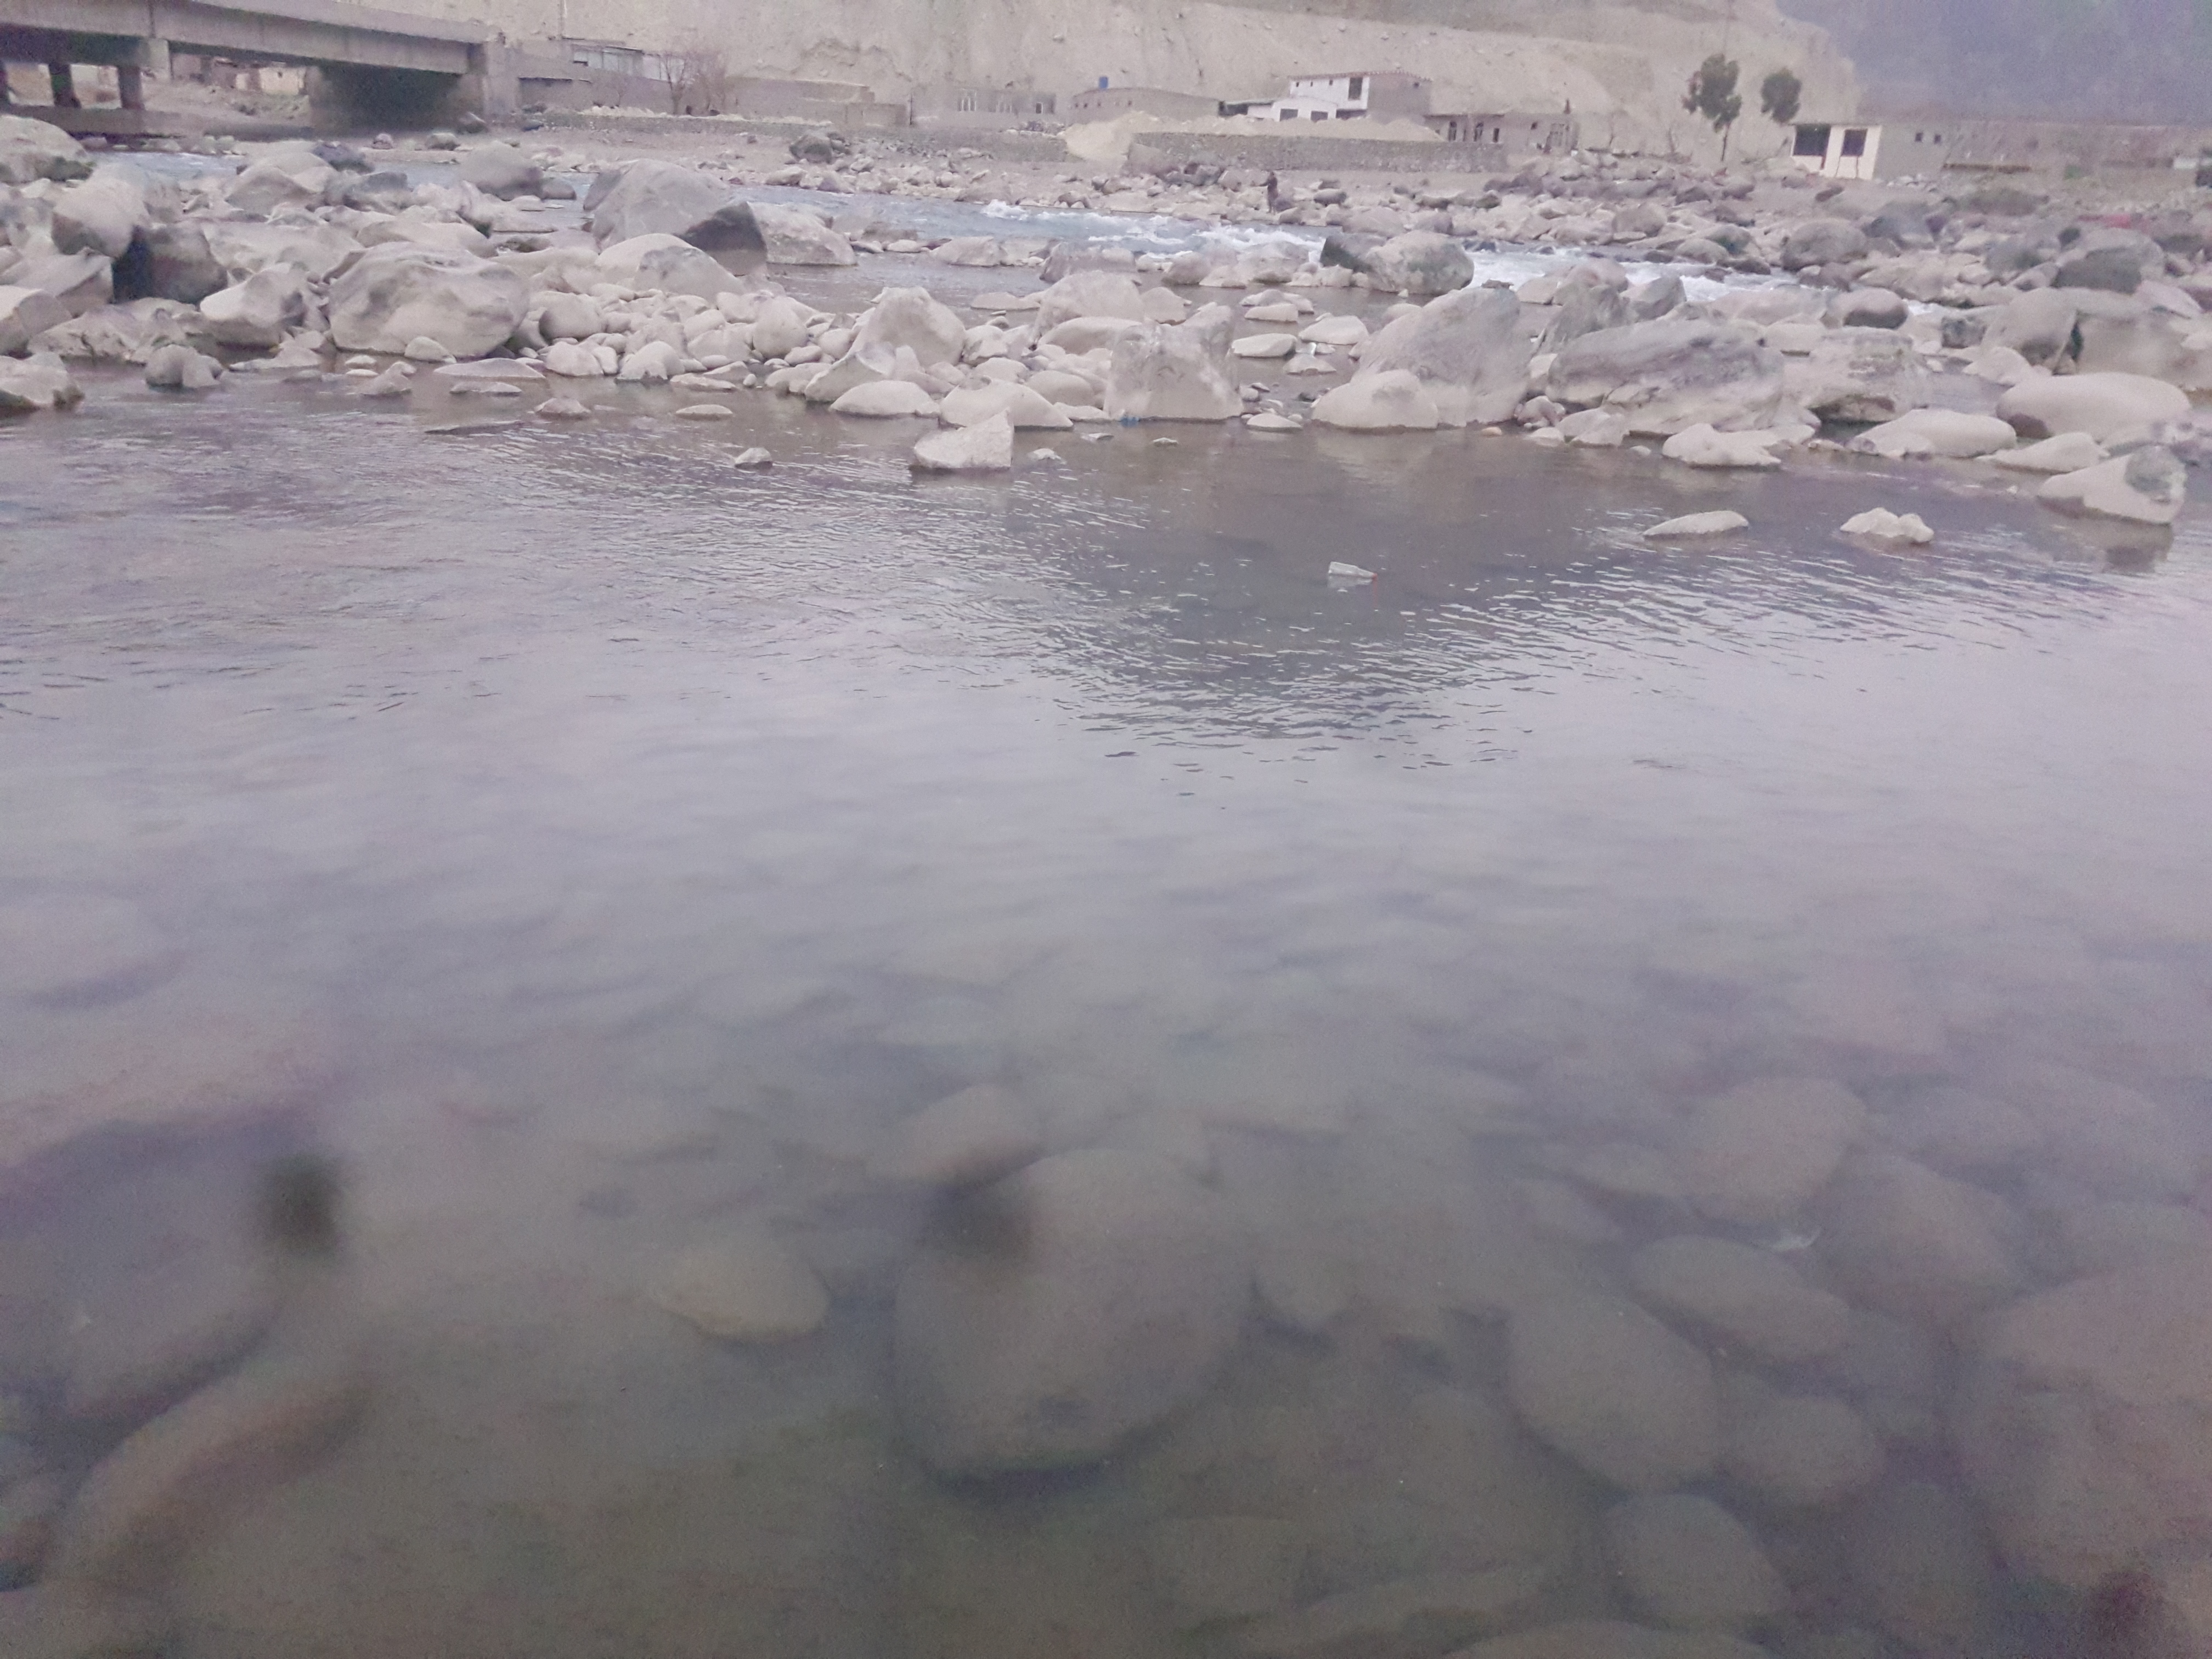Plastic Bottle: (1327, 561, 1378, 579), (1118, 415, 1139, 422)
